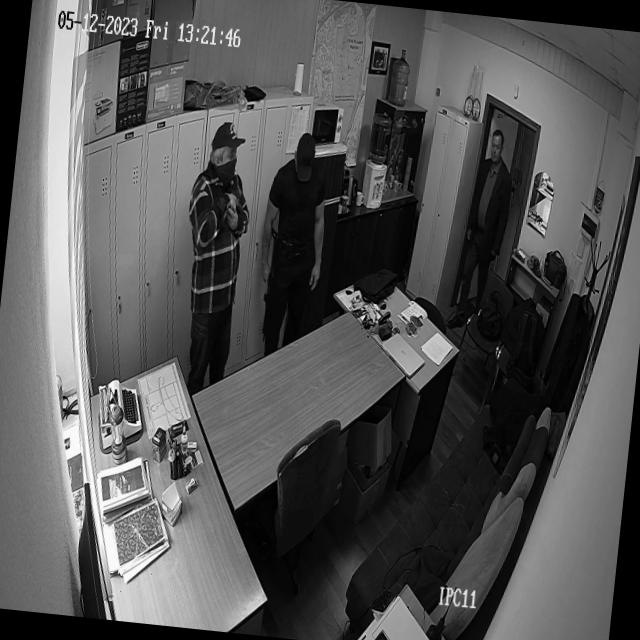gun: (256, 222, 280, 346), (223, 195, 247, 232)
person: (453, 125, 518, 268)
person with a gun: (172, 115, 260, 370), (251, 125, 336, 328)
